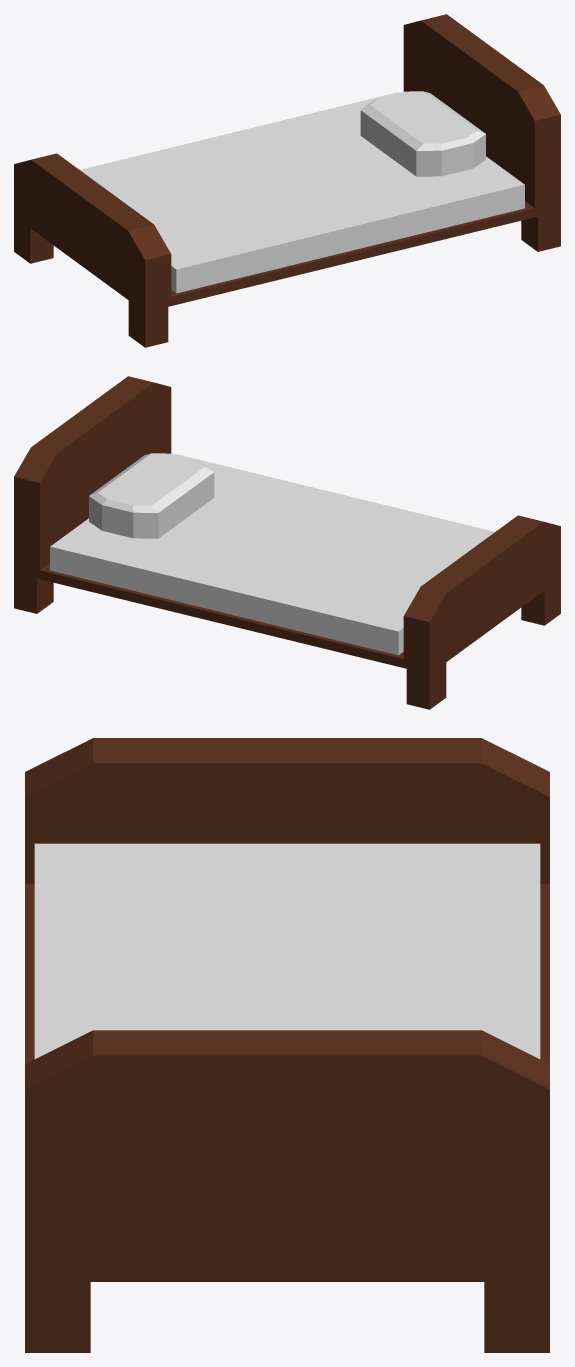
Rendered from Bed.1.fbx.
The picture shows the model from 3 angles, top to bottom: view 1: azimuth 30°, elevation 25°; view 2: azimuth 150°, elevation 25°; view 3: azimuth 270°, elevation 25°; orthographic projection. The views are drawn at different scales.
Visible parts, largest first — view 1: bed; view 2: bed; view 3: bed.
Part boxes in pixels (box(x1,y1,x2,y2)): bed: box(14, 14, 560, 347); bed: box(14, 376, 560, 709); bed: box(25, 738, 549, 1352).
Bounding box in the file's own units: 910 × 311 × 497.
